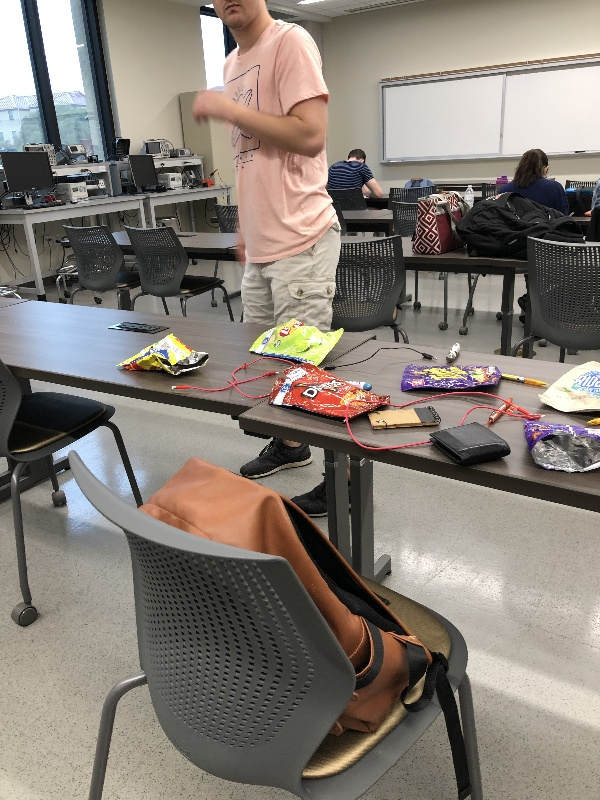bag: (266, 361, 395, 425), (520, 411, 600, 478), (245, 316, 348, 368), (111, 331, 213, 382), (534, 353, 600, 419), (397, 362, 506, 392)
